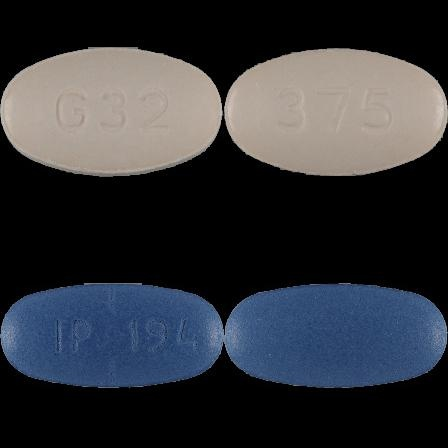61919-162: (0, 0, 224, 224)
